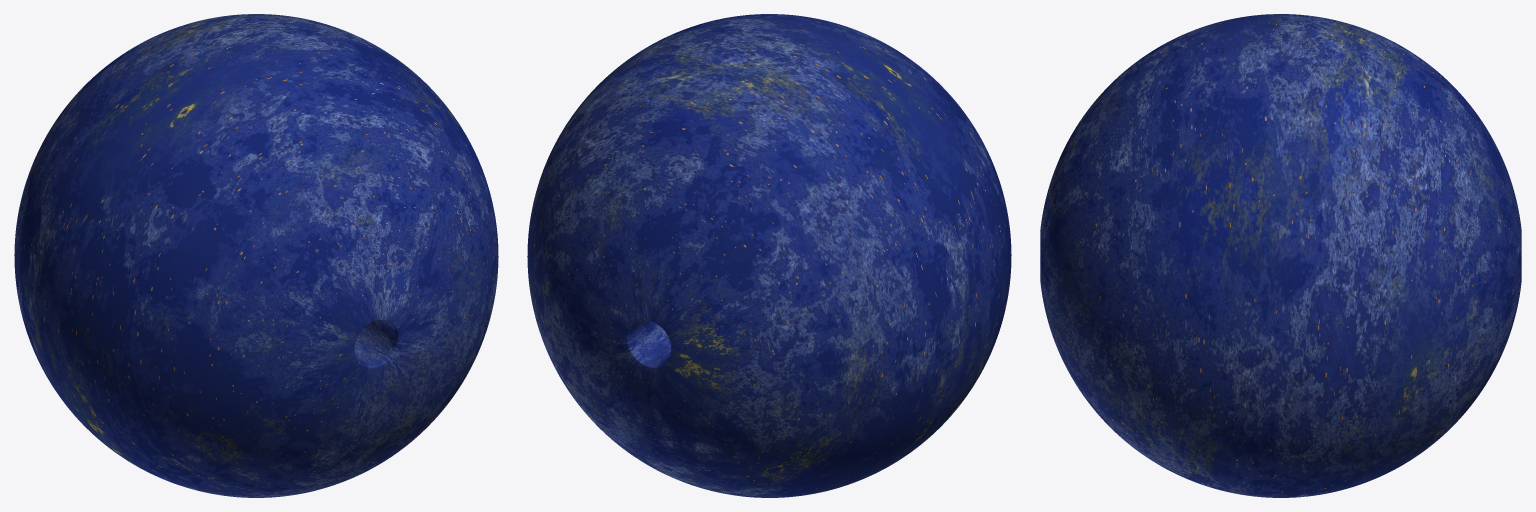
Rendered from lapis-lazuli-10mm.glb.
3 views of the same model, side by side, from view 1: azimuth 30°, elevation 25°; view 2: azimuth 150°, elevation 25°; view 3: azimuth 270°, elevation 25° (orthographic).
Parts seen in each view (by area): view 1: lapis-lazuli; view 2: lapis-lazuli; view 3: lapis-lazuli.
Part boxes in pixels (x1,y1,x2,y2): lapis-lazuli: (14,14,498,497); lapis-lazuli: (527,14,1011,497); lapis-lazuli: (1040,14,1521,497).
Size of the model in its own units: 0.01 by 0.01 by 0.00994.
Materials: 1 (1 with a texture image).
